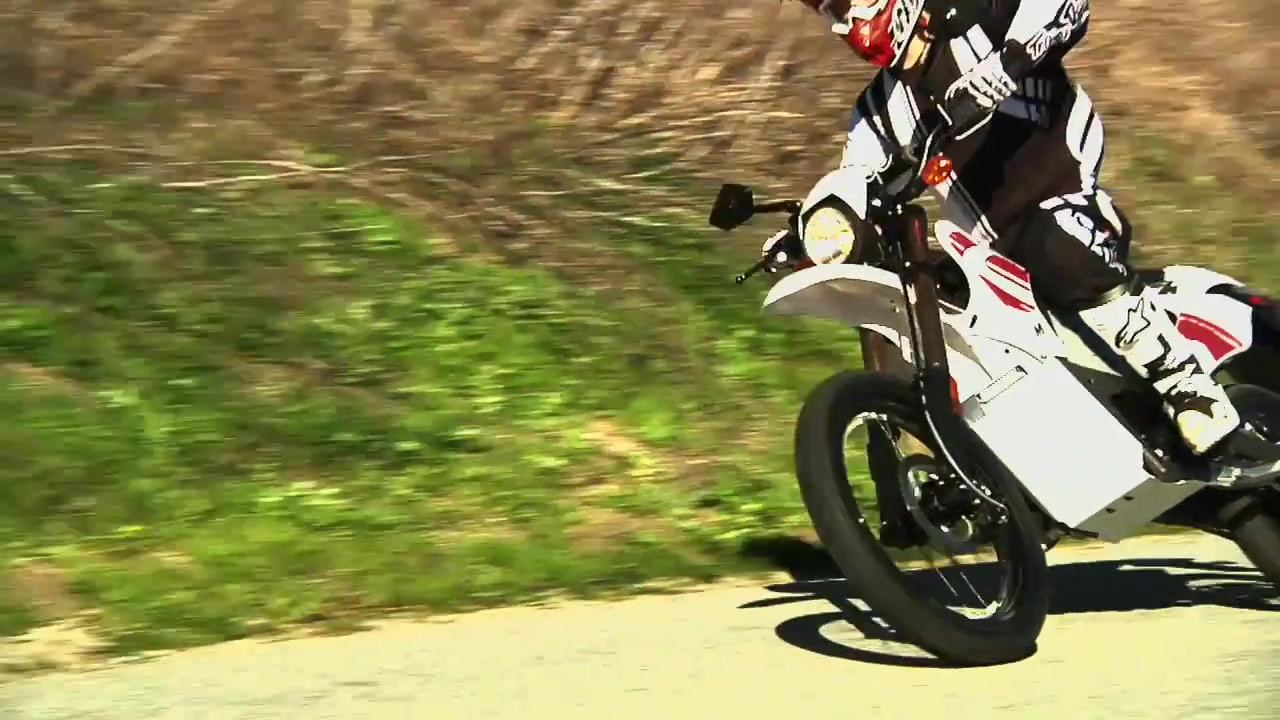motorbike: (710, 93, 1280, 660)
